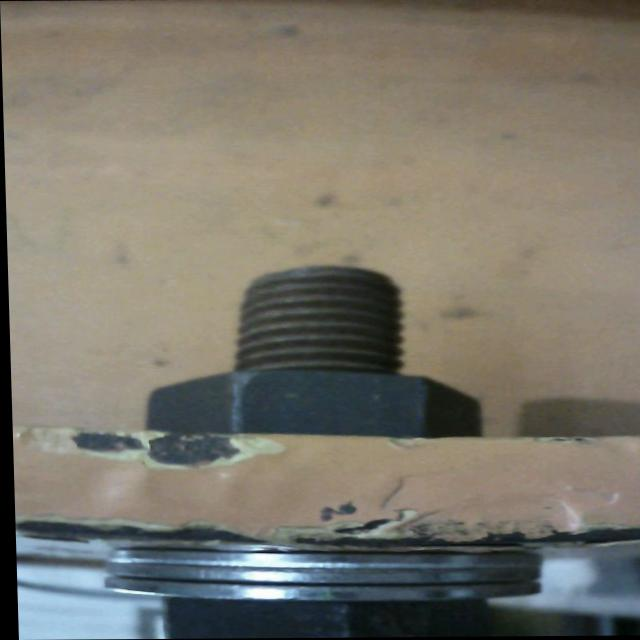Rusty bolt: (131, 265, 475, 441), (130, 542, 542, 640)
